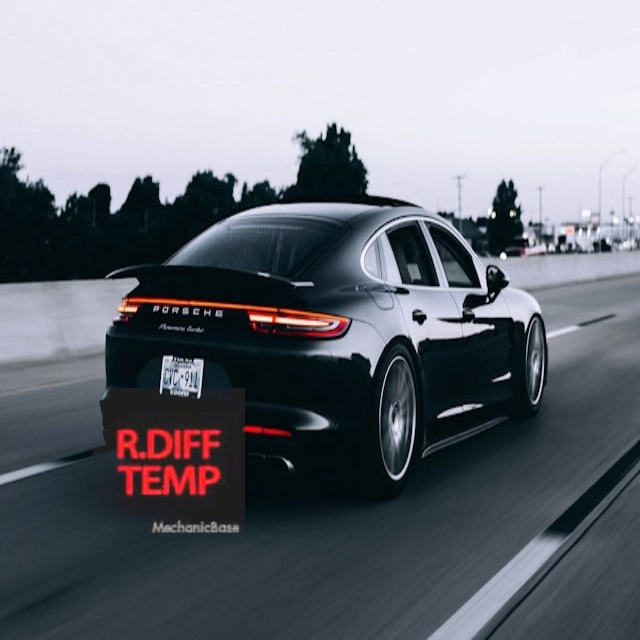symbol: (93, 388, 245, 540)
